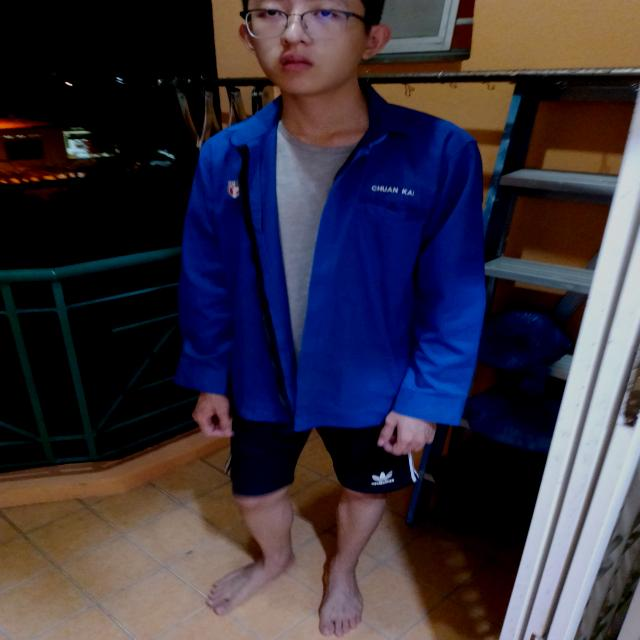person_with_labcoat: (174, 0, 485, 636)
